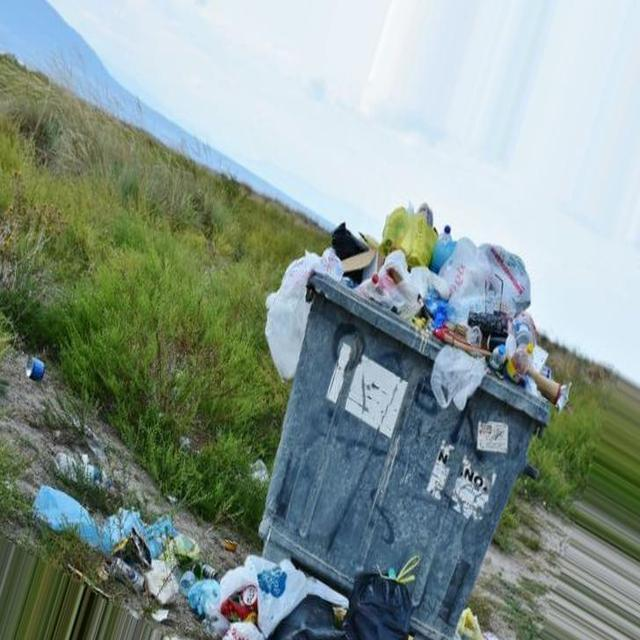garbage: (26, 474, 486, 637), (260, 201, 559, 417), (21, 348, 43, 391)
